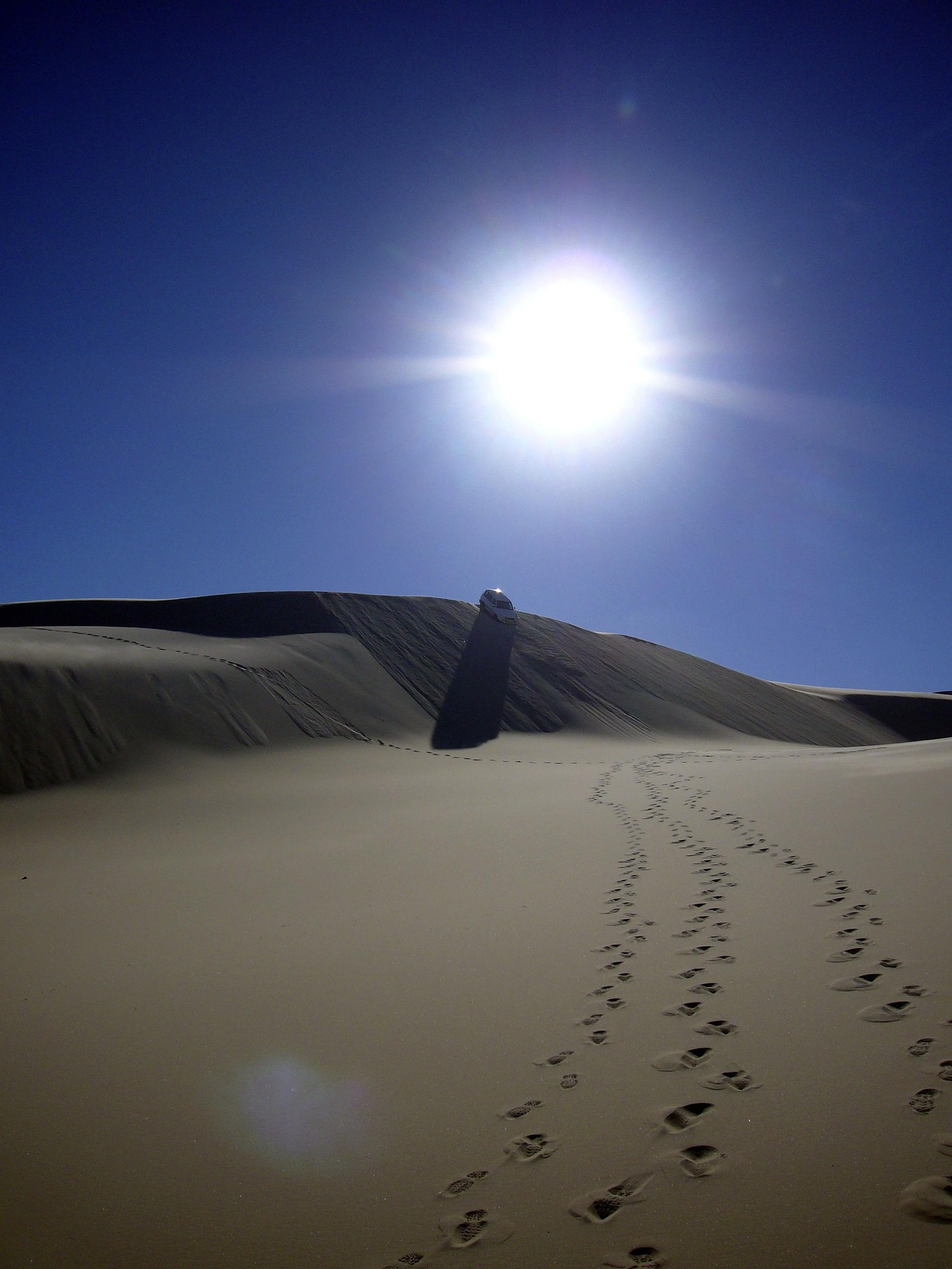human_footprint: (576, 764, 652, 1047), (649, 781, 735, 995), (438, 1132, 559, 1198), (596, 851, 653, 983), (712, 812, 813, 874), (820, 872, 884, 964), (569, 1171, 653, 1224), (438, 1208, 514, 1249), (900, 1175, 951, 1222), (441, 1209, 497, 1246), (668, 1145, 725, 1179), (659, 1101, 714, 1133), (503, 1134, 560, 1163), (651, 1046, 713, 1072), (602, 1244, 667, 1268), (700, 1066, 761, 1091), (438, 1169, 489, 1198), (859, 1000, 914, 1022), (672, 922, 730, 942), (829, 972, 882, 991), (497, 1099, 542, 1120), (829, 926, 873, 947), (908, 1087, 941, 1114), (383, 1251, 432, 1268), (694, 1019, 738, 1036), (826, 945, 867, 963), (534, 1050, 575, 1067), (662, 1001, 702, 1018), (676, 943, 716, 958), (625, 921, 653, 942), (907, 1037, 935, 1057), (672, 965, 707, 980), (689, 981, 723, 995), (584, 1028, 610, 1046), (708, 922, 730, 943), (900, 984, 932, 998), (588, 983, 615, 999), (933, 1132, 951, 1156), (933, 1058, 951, 1082), (601, 902, 634, 915), (575, 1012, 603, 1027), (558, 1071, 580, 1090), (698, 888, 723, 902), (604, 996, 627, 1011), (593, 942, 621, 954), (828, 881, 852, 894), (599, 959, 623, 972), (709, 954, 735, 966), (812, 869, 834, 883), (671, 929, 701, 939), (878, 957, 903, 969), (686, 912, 709, 925), (608, 916, 634, 927), (684, 900, 707, 912), (705, 903, 725, 915), (616, 970, 633, 983), (618, 947, 635, 959), (869, 916, 884, 926), (939, 1017, 951, 1027), (863, 888, 877, 896)
